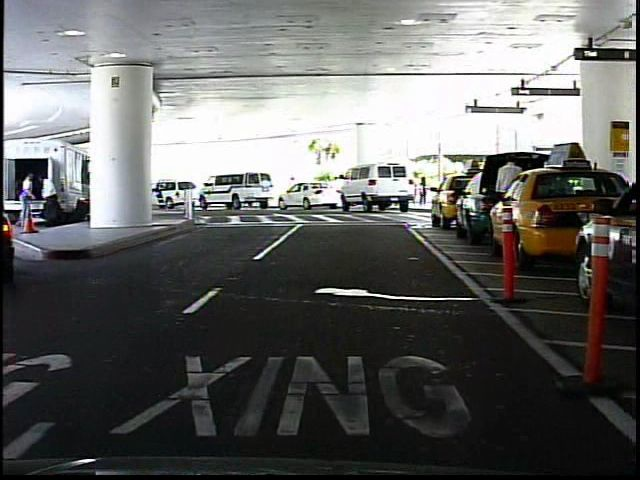person: (490, 151, 526, 245), (285, 173, 301, 204), (416, 175, 431, 207)
